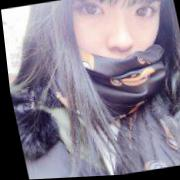WRONG: (55, 1, 179, 109)
